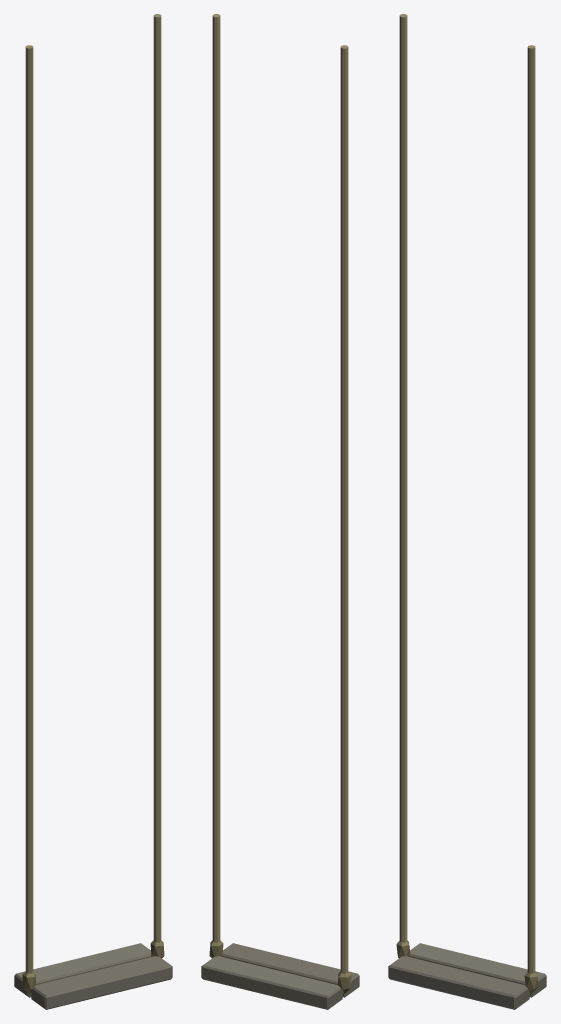
Rendered from swing_seat.glb.
The picture shows the model from 3 angles, left to right: view 1: azimuth 30°, elevation 25°; view 2: azimuth 150°, elevation 25°; view 3: azimuth 330°, elevation 25°; orthographic projection.
Parts seen in each view (by area): view 1: swing_seat; view 2: swing_seat; view 3: swing_seat.
Part boxes in pixels (x1,y1,x2,y2): swing_seat: [14, 14, 172, 1009]; swing_seat: [201, 14, 359, 1009]; swing_seat: [388, 14, 546, 1009].
Size of the model in its own units: 0.7106 by 4.62 by 0.2797.
